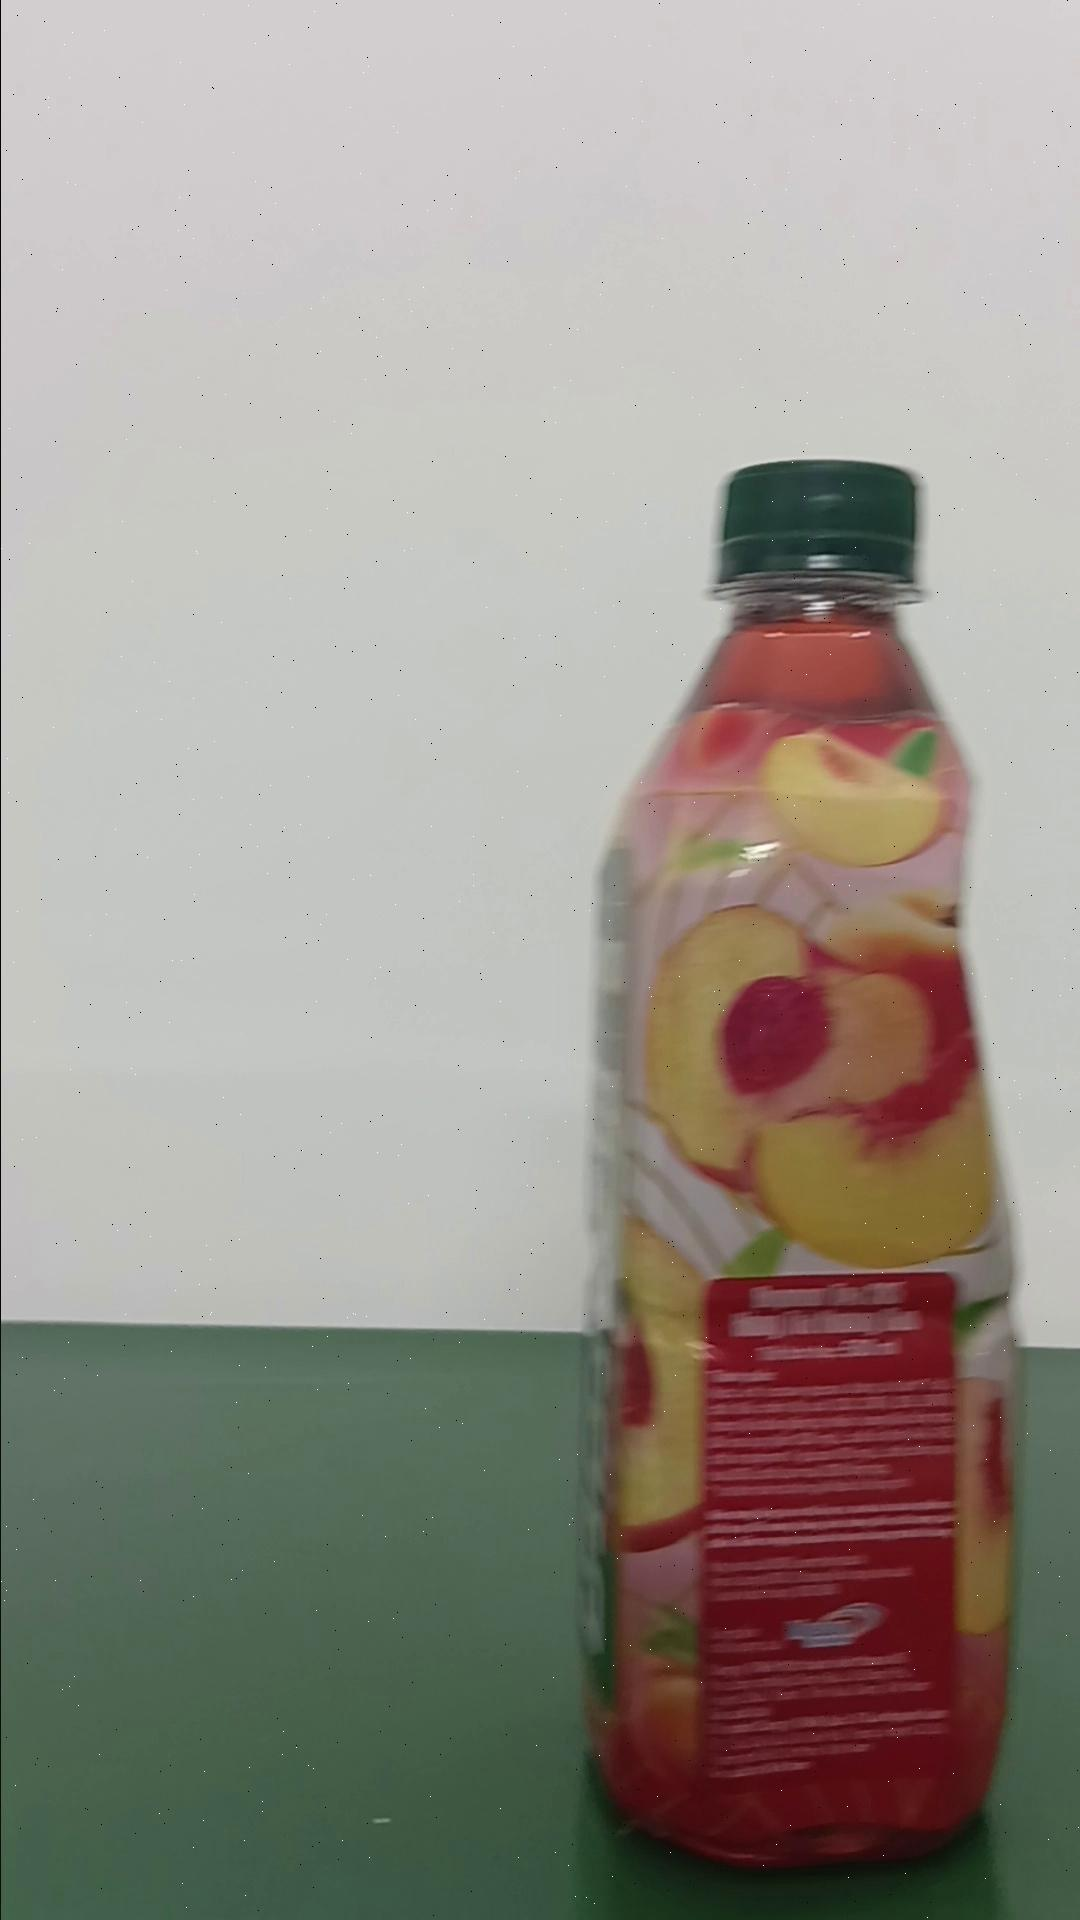loi meo sp: (574, 455, 1021, 1869)
